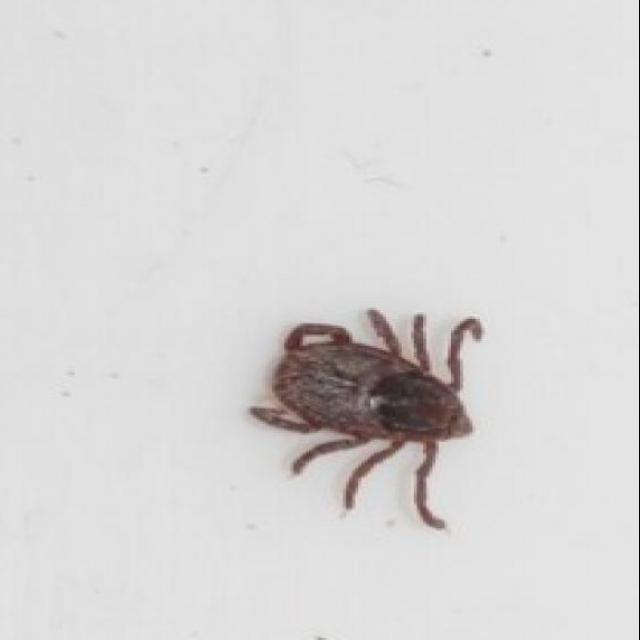Rhipicephalus Sanguineus-F: (248, 310, 489, 533)
